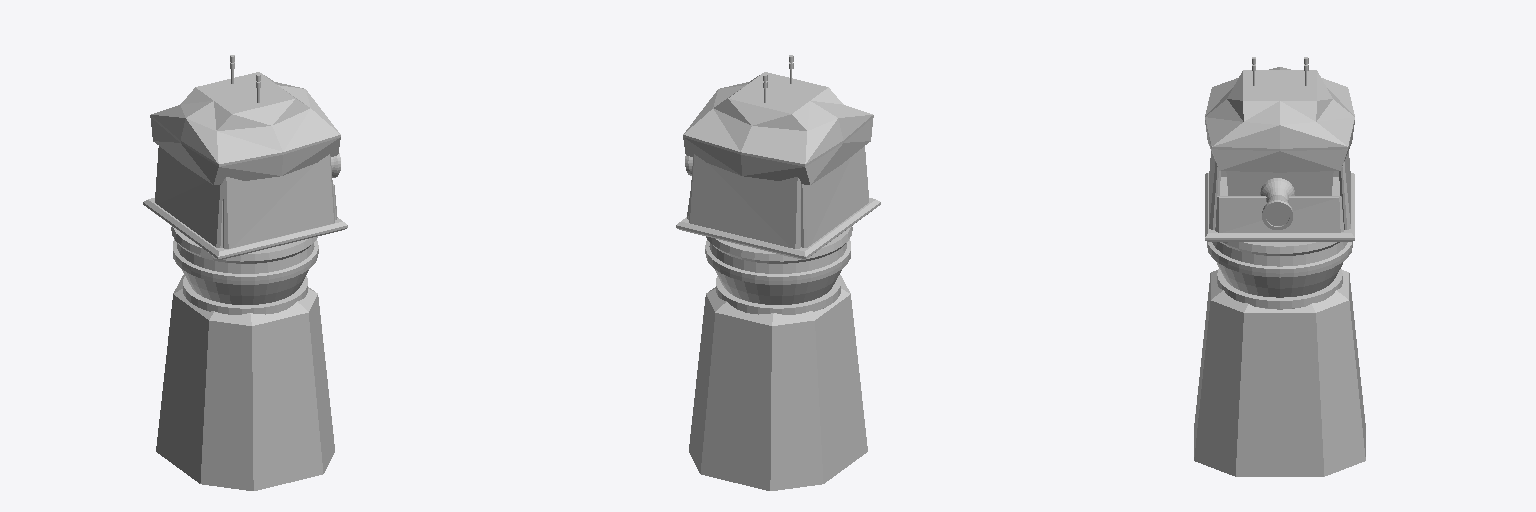
The model's file is Tower LITLE01.obj.
The picture shows the model from 3 angles: view 1: azimuth 30°, elevation 25°; view 2: azimuth 150°, elevation 25°; view 3: azimuth 270°, elevation 25°; orthographic projection.
Parts seen in each view (by area): view 1: korpus, pol.001, Cylinder.001, pol.002, pol.004, pol; view 2: korpus, pol.001, Cylinder.001, pol.003, pol.004, pol; view 3: korpus, pol.001, Cylinder.001, pol.005, pol, Cylinder, pol.003, pol.002.
Part boxes in pixels (bbox=[...]): korpus: bbox=[156, 275, 334, 490]; pol.001: bbox=[150, 72, 340, 184]; Cylinder.001: bbox=[171, 226, 318, 314]; pol.002: bbox=[223, 154, 334, 248]; pol.004: bbox=[155, 146, 222, 247]; pol: bbox=[143, 198, 347, 259]; korpus: bbox=[689, 275, 867, 490]; pol.001: bbox=[683, 72, 873, 184]; Cylinder.001: bbox=[705, 226, 852, 314]; pol.003: bbox=[689, 154, 800, 248]; pol.004: bbox=[801, 146, 868, 247]; pol: bbox=[676, 198, 880, 259]; korpus: bbox=[1194, 270, 1365, 476]; pol.001: bbox=[1205, 67, 1354, 195]; Cylinder.001: bbox=[1207, 242, 1352, 309]; pol.005: bbox=[1215, 196, 1343, 232]; pol: bbox=[1205, 173, 1354, 241]; Cylinder: bbox=[1260, 178, 1294, 229]; pol.003: bbox=[1339, 151, 1350, 229]; pol.002: bbox=[1209, 151, 1220, 229].
Size of the model in its own units: 6.92 by 16.41 by 6.61.